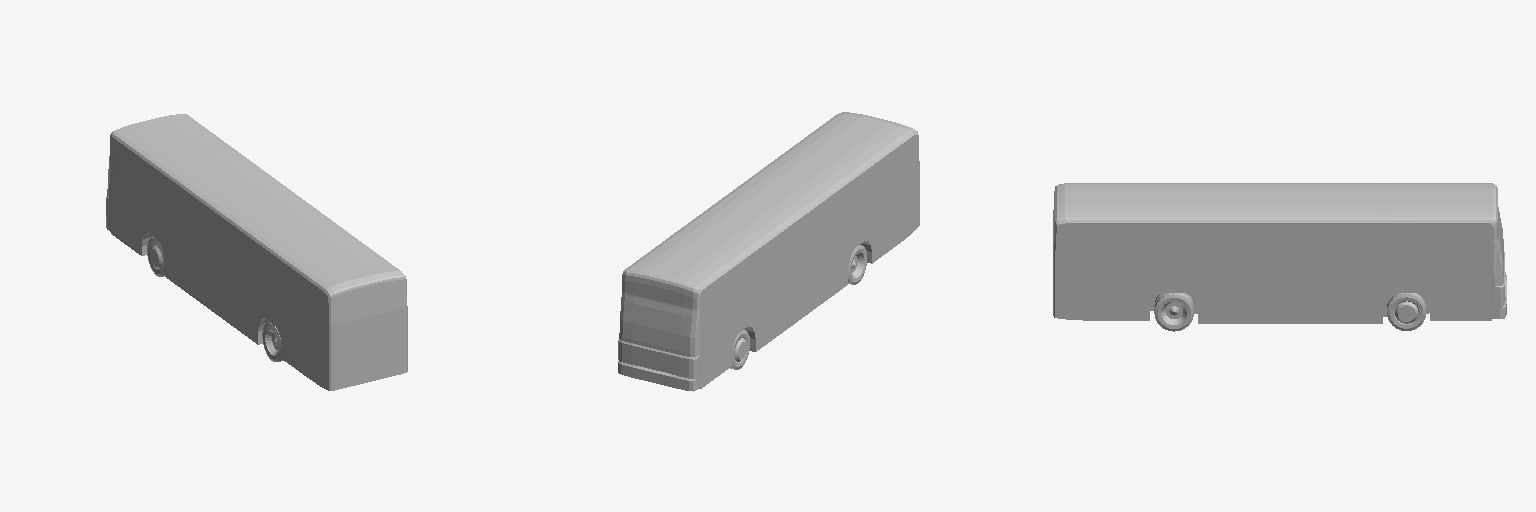
The model's file is bus.obj.
3 renders of one model, left to right at view 1: azimuth 30°, elevation 25°; view 2: azimuth 150°, elevation 25°; view 3: azimuth 270°, elevation 25°, orthographic.
Visible parts, largest first — view 1: erga; view 2: erga; view 3: erga.
Part boxes in pixels (bbox=[...]): erga: bbox=[106, 114, 407, 390]; erga: bbox=[618, 112, 919, 391]; erga: bbox=[1053, 183, 1506, 331].
Size of the model in its own units: 5 by 7 by 25.